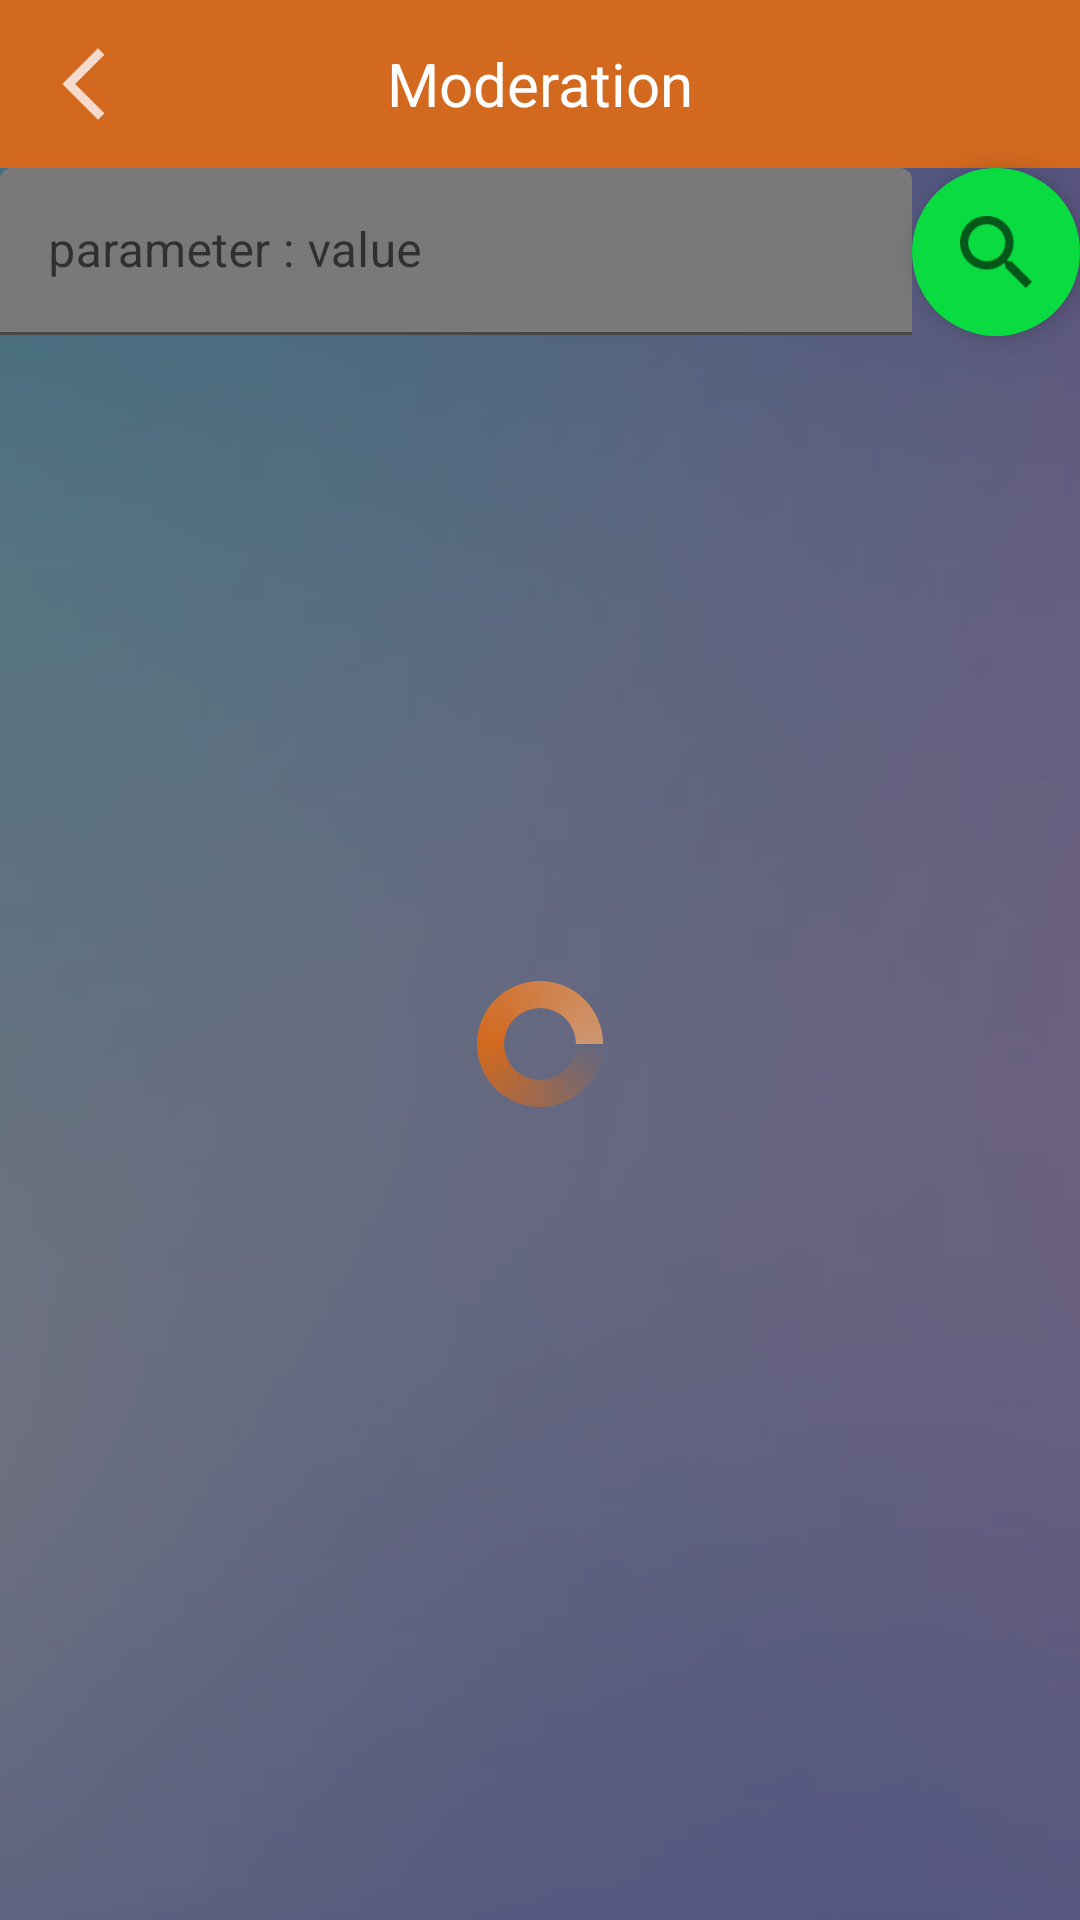

Icons on this 1080*1920 Android screen, each with the point to tap as point (x, y):
back: point (83, 84)
search: point (996, 252)
